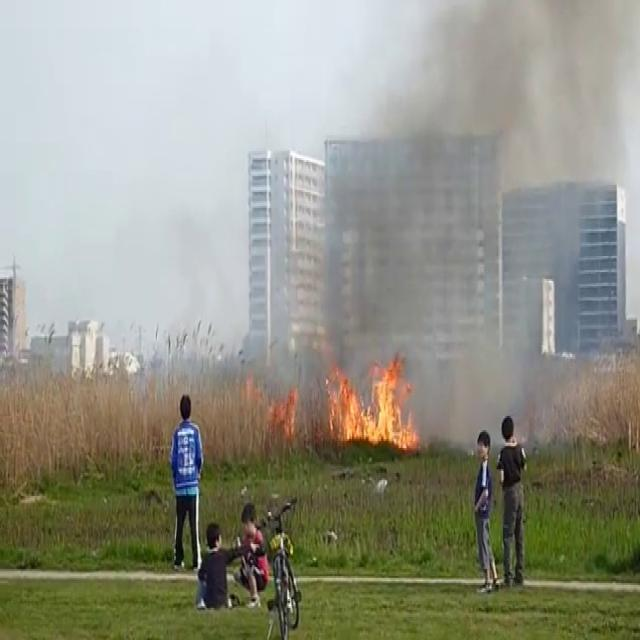Fire: (322, 348, 422, 454), (268, 374, 303, 446)
Smoke: (306, 0, 640, 384)
